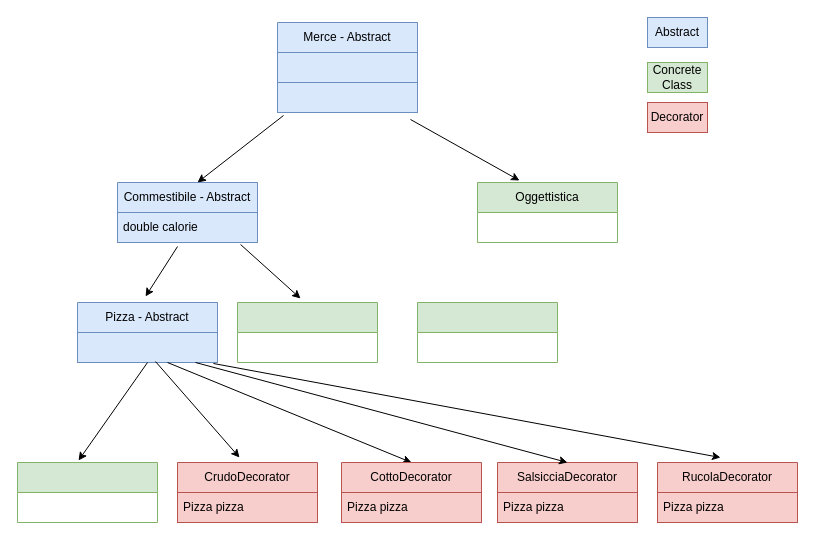
This 815x540 diagram has some shape labels left out. Here are the shapes that lost their labels. From the top down, the centre of each, then its label:
At (347,67): "String name".
At (347,97): "double price".
At (147,347): "Size size".
At (307,332): "Bevande".
At (487,332): "Ingredienti".
At (87,492): "PizzaMargherita".
